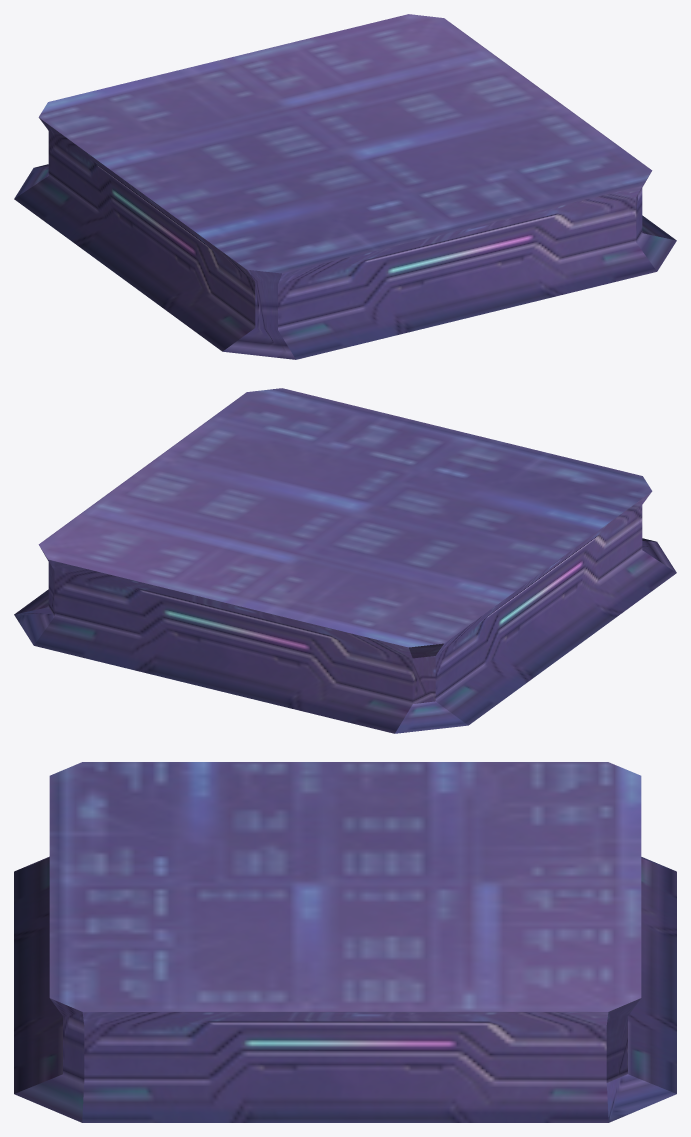
File: platformdefault2_9.glb
3 renders of one model, top to bottom at view 1: azimuth 30°, elevation 25°; view 2: azimuth 150°, elevation 25°; view 3: azimuth 270°, elevation 25°, orthographic. The views are drawn at different scales.
Parts seen in each view (by area): view 1: box; view 2: box; view 3: box.
Boxes of the visible parts, <box> form: box: <box>14,14,676,359</box>; box: <box>14,388,676,733</box>; box: <box>14,762,676,1122</box>.
Bounding box in the file's own units: 4.7 × 0.7513 × 4.7.
Materials: 1 (1 with a texture image).
